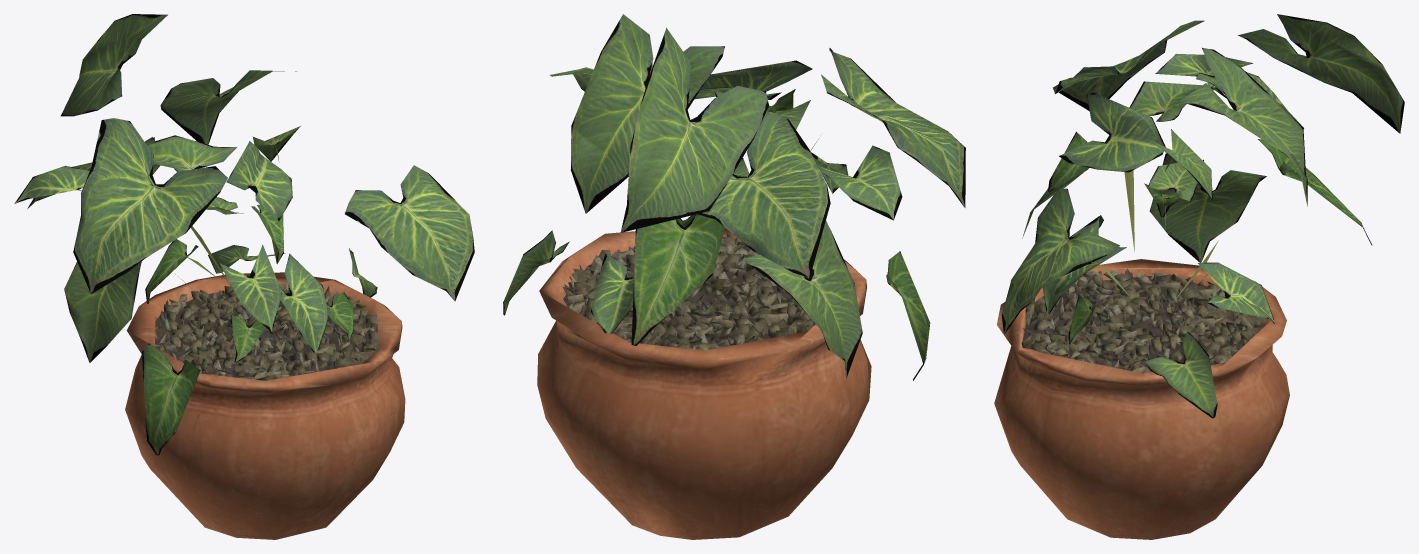
File: potted_plant_02.glb
The picture shows the model from 3 angles, left to right: view 1: azimuth 30°, elevation 25°; view 2: azimuth 150°, elevation 25°; view 3: azimuth 270°, elevation 25°; orthographic projection. The views are drawn at different scales.
Parts seen in each view (by area): view 1: potted_plant_02_leaves, potted_plant_02_pot; view 2: potted_plant_02_leaves, potted_plant_02_pot; view 3: potted_plant_02_pot, potted_plant_02_leaves.
Part boxes in pixels (left/top/right/bottom): potted_plant_02_leaves: left=14, top=14, right=474, bottom=455; potted_plant_02_pot: left=125, top=272, right=405, bottom=539; potted_plant_02_leaves: left=503, top=14, right=965, bottom=380; potted_plant_02_pot: left=537, top=228, right=871, bottom=539; potted_plant_02_pot: left=994, top=259, right=1289, bottom=539; potted_plant_02_leaves: left=1001, top=14, right=1404, bottom=418.
Bounding box in the file's own units: 0.7009 × 0.8395 × 0.6553.
2 materials, 2 textured.
